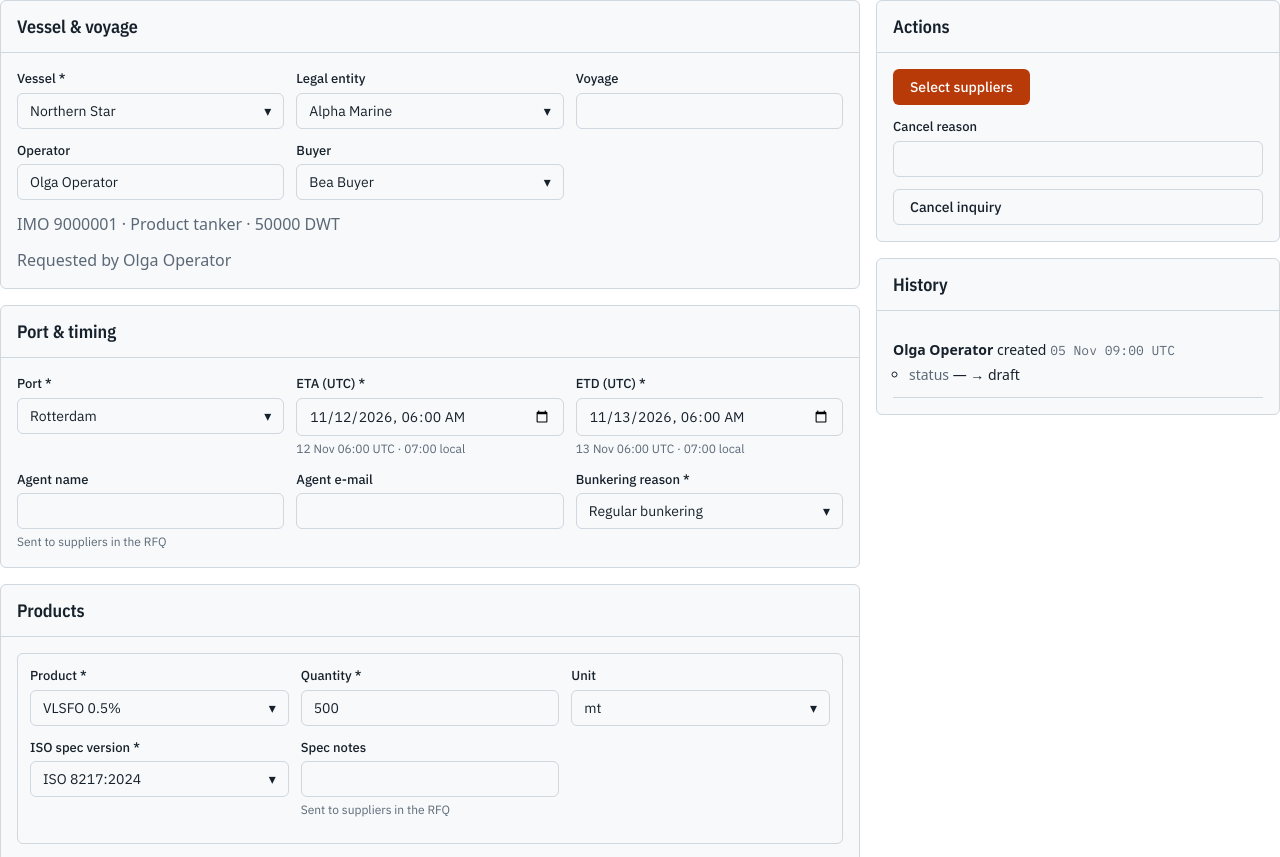
Test case: InquiryPage errors › [B2-R13] any other failure shows a toast and keeps the draft
In the field labelled "Agent name": {"x": 151, "y": 511} [17, 493, 284, 529], type "Ahoy"
(page scrolled)
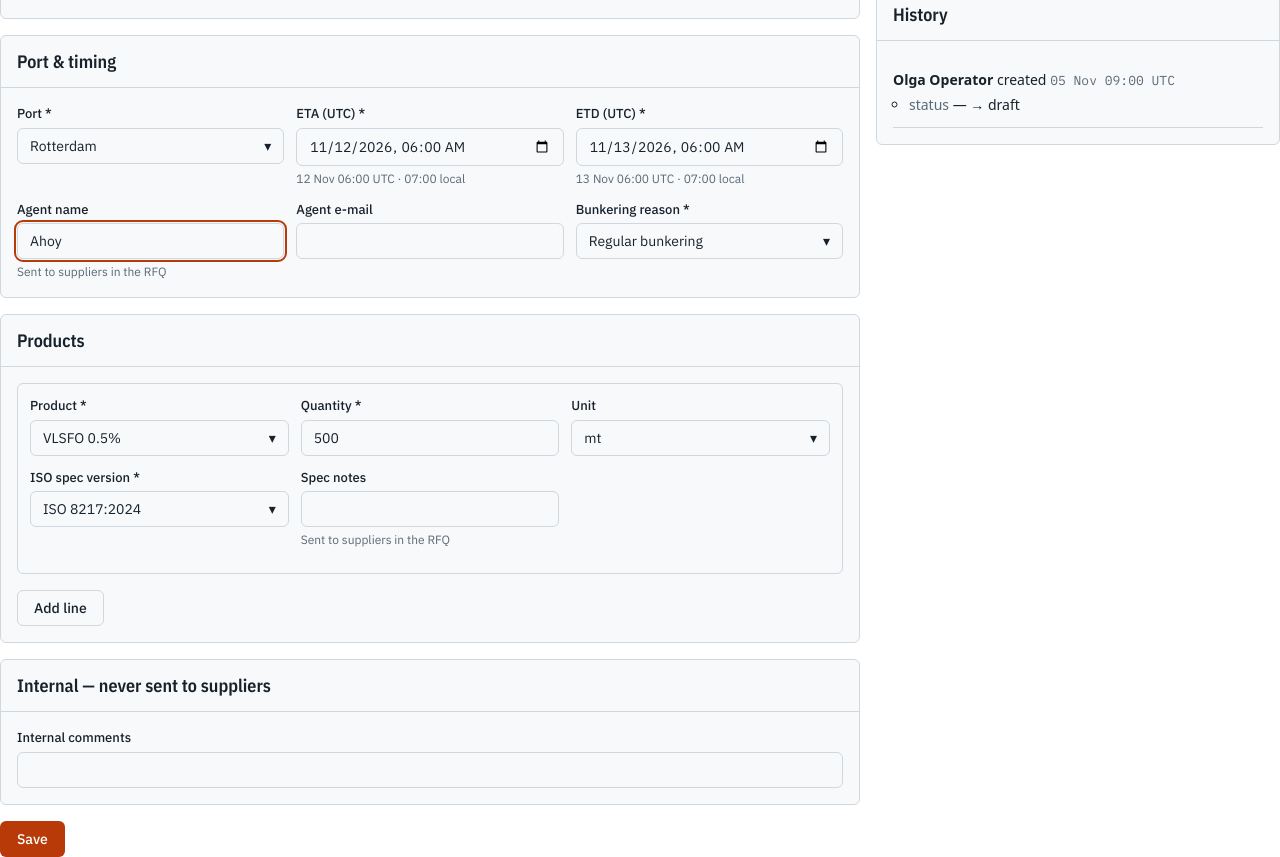
Click the button "Save": {"x": 32, "y": 838} [0, 820, 65, 856]
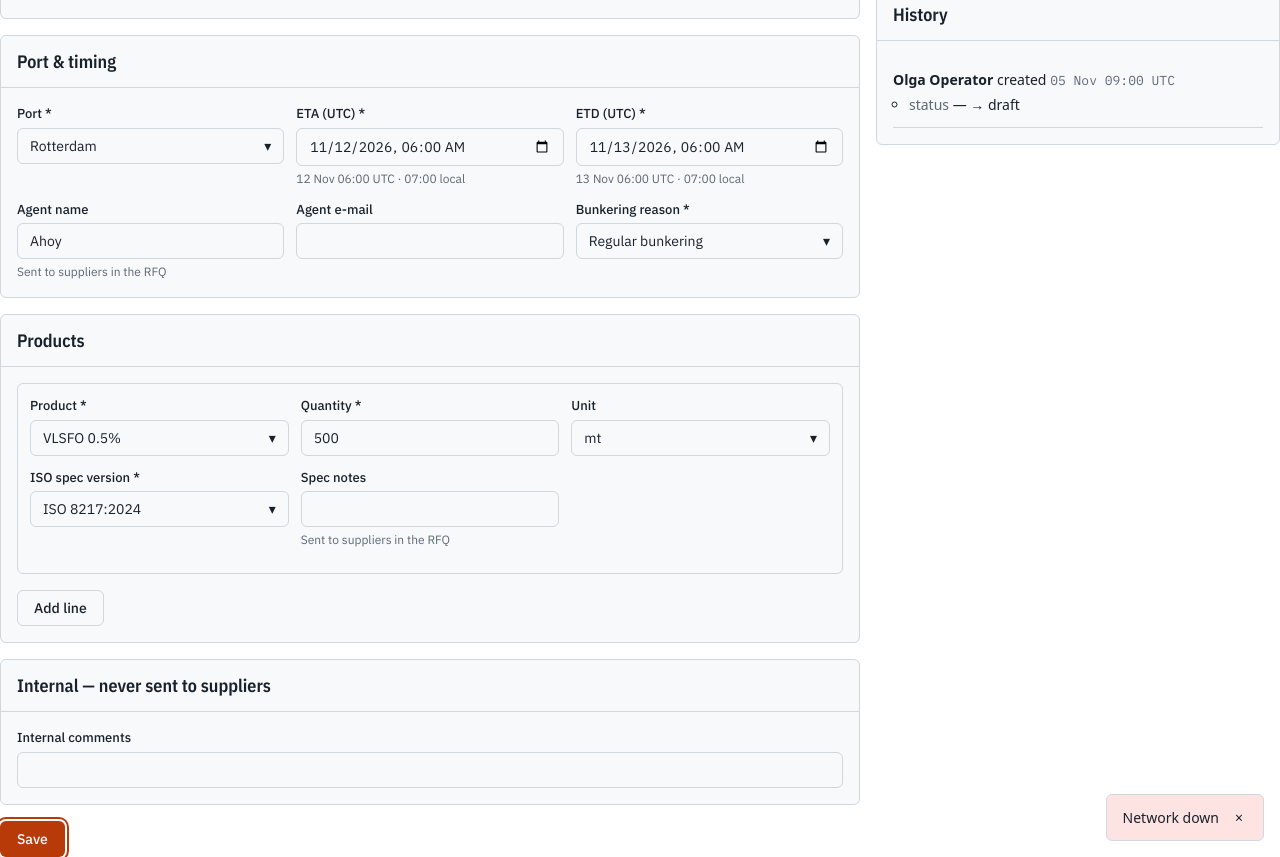
Expected: the text "Network down" is shown, [1123, 807, 1219, 828]
